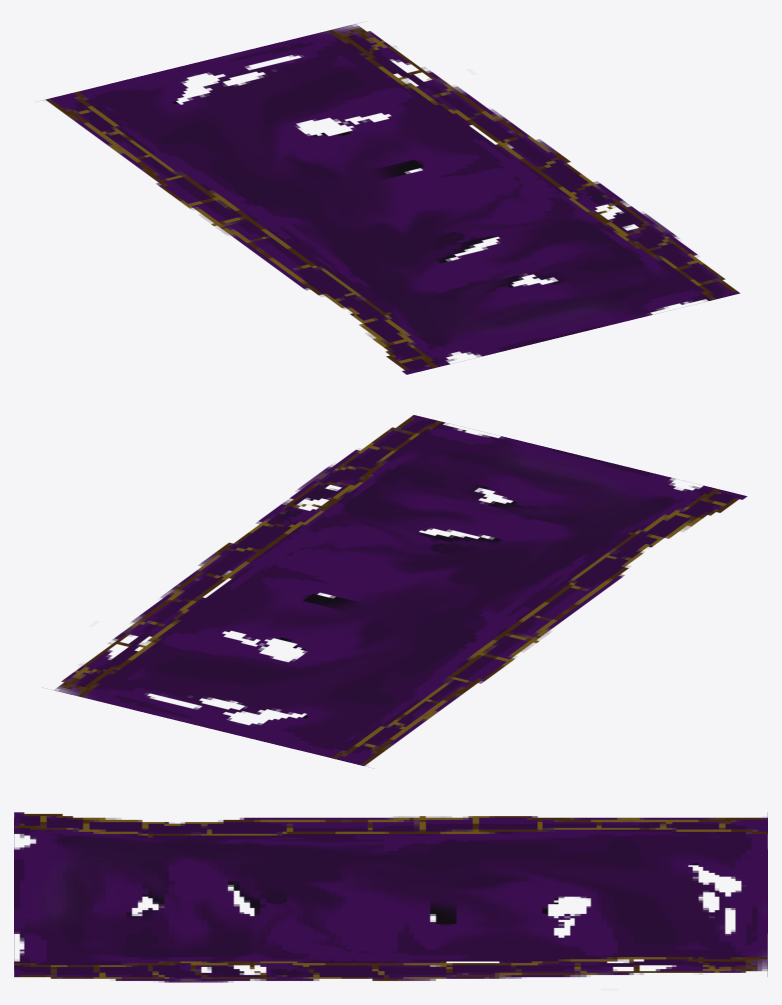
Rendered from tapete001.glb.
3 renders of one model, top to bottom at view 1: azimuth 30°, elevation 25°; view 2: azimuth 150°, elevation 25°; view 3: azimuth 270°, elevation 25°, orthographic.
Parts seen in each view (by area): view 1: tapeteponta_geo; view 2: tapeteponta_geo; view 3: tapeteponta_geo.
Part boxes in pixels (x1,y1,x2,y2): tapeteponta_geo: (45, 24, 740, 374); tapeteponta_geo: (54, 415, 747, 766); tapeteponta_geo: (14, 812, 767, 982).
Size of the model in its own units: 2.59 by 1.11e-15 by 4.37.
1 material, 1 textured.
